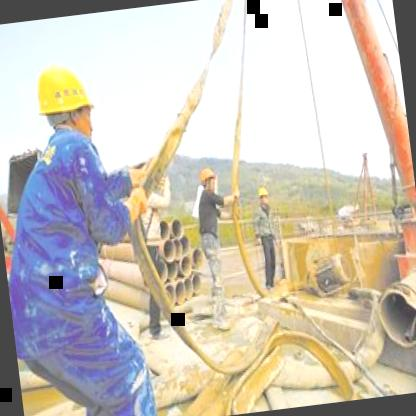helmet: (30, 54, 101, 146), (195, 162, 219, 196), (254, 184, 271, 208)
